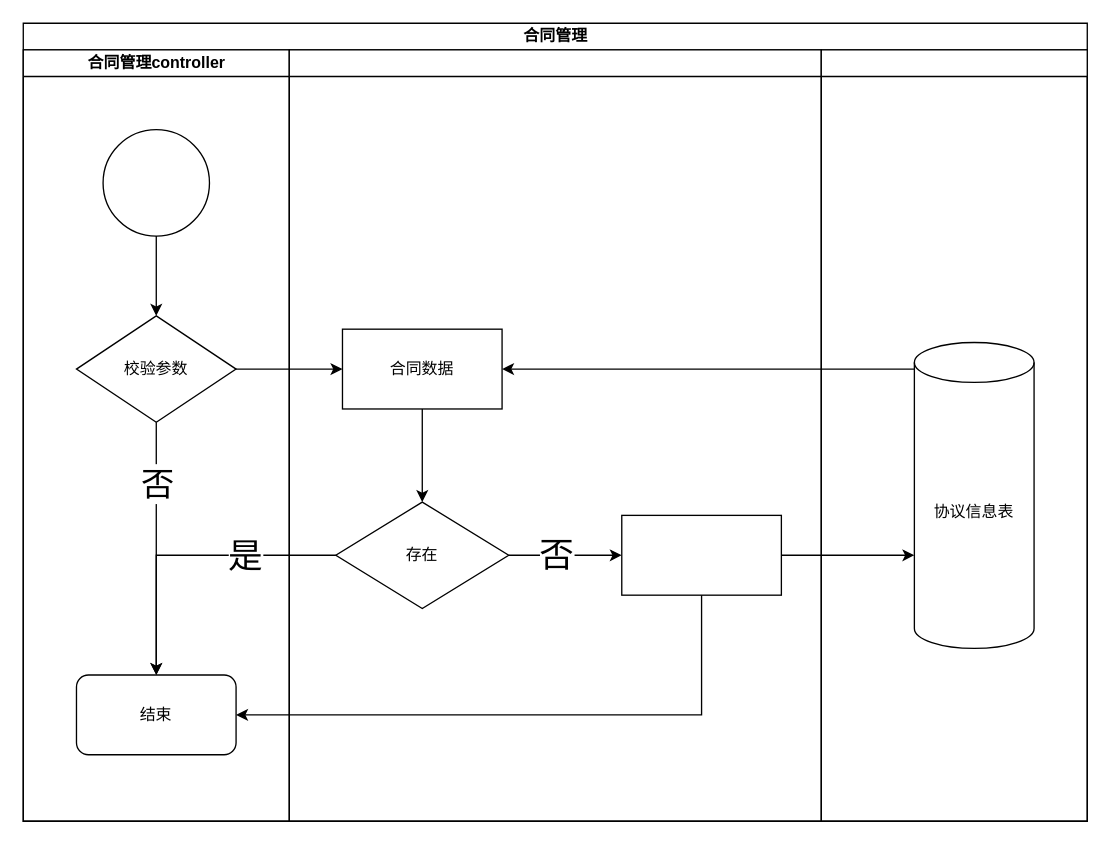
Some shapes in this 1111 by 845 pixel diagram are drawn without their labels. The shapes that lost their labels are listed below. From the top down, each one's box as (x1, y1, x2, y2) in pixels, then its label:
(102, 128, 209, 236): 新增
(288, 49, 821, 821): 合同管理service
(820, 49, 1087, 821): 合同管理dao
(620, 514, 781, 595): 入库
